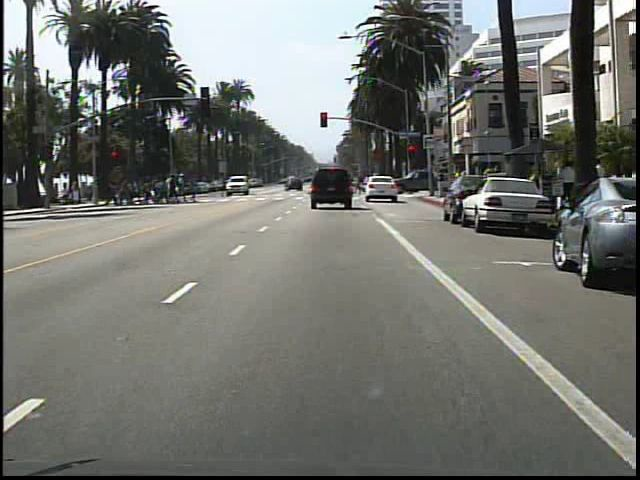person: (555, 156, 581, 214), (586, 155, 607, 212), (214, 172, 233, 201)
